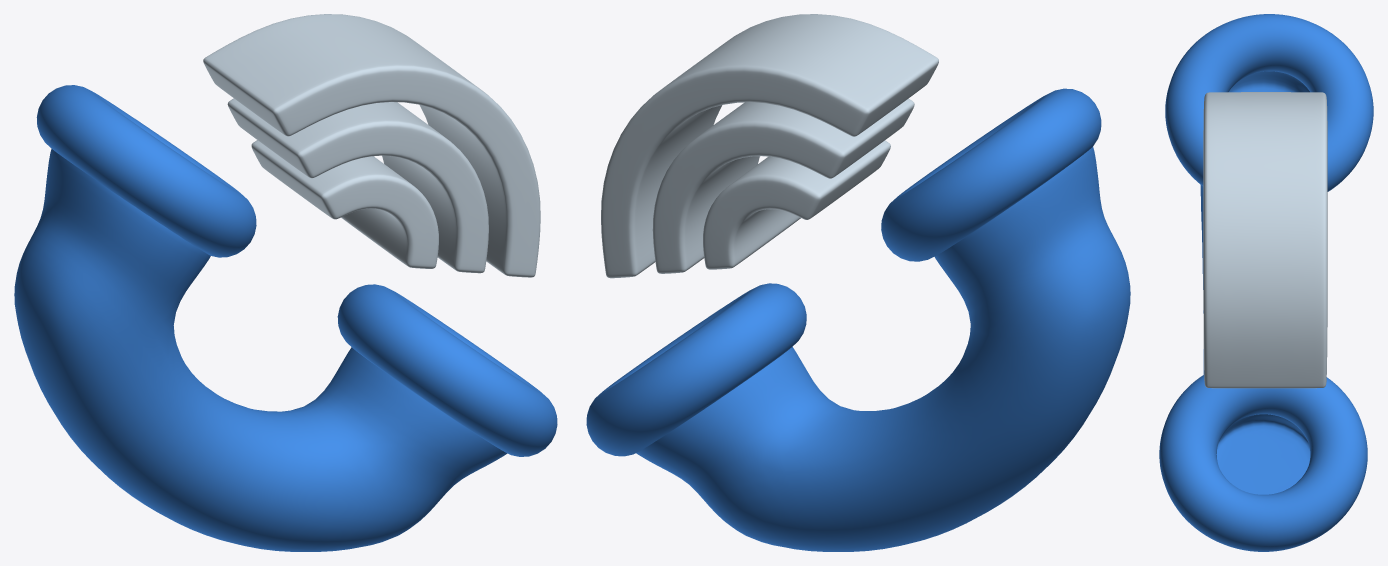
The model's file is phone-ringing-animated-3d-icon-990986003895.glb.
3 renders of one model, left to right at view 1: azimuth 30°, elevation 25°; view 2: azimuth 150°, elevation 25°; view 3: azimuth 270°, elevation 25°, orthographic. The views are drawn at different scales.
Visible parts, largest first — view 1: Phone, Volume.001; view 2: Phone, Volume.001; view 3: Phone, Volume.001.
Boxes of the visible parts, box(x1,y1,x2,y2) form: Phone: box(14, 85, 557, 551); Volume.001: box(203, 14, 540, 277); Phone: box(586, 88, 1130, 551); Volume.001: box(601, 14, 938, 278); Phone: box(1159, 14, 1373, 551); Volume.001: box(1203, 92, 1327, 388).
Size of the model in its own units: 2.02 by 1.89 by 0.8914.
